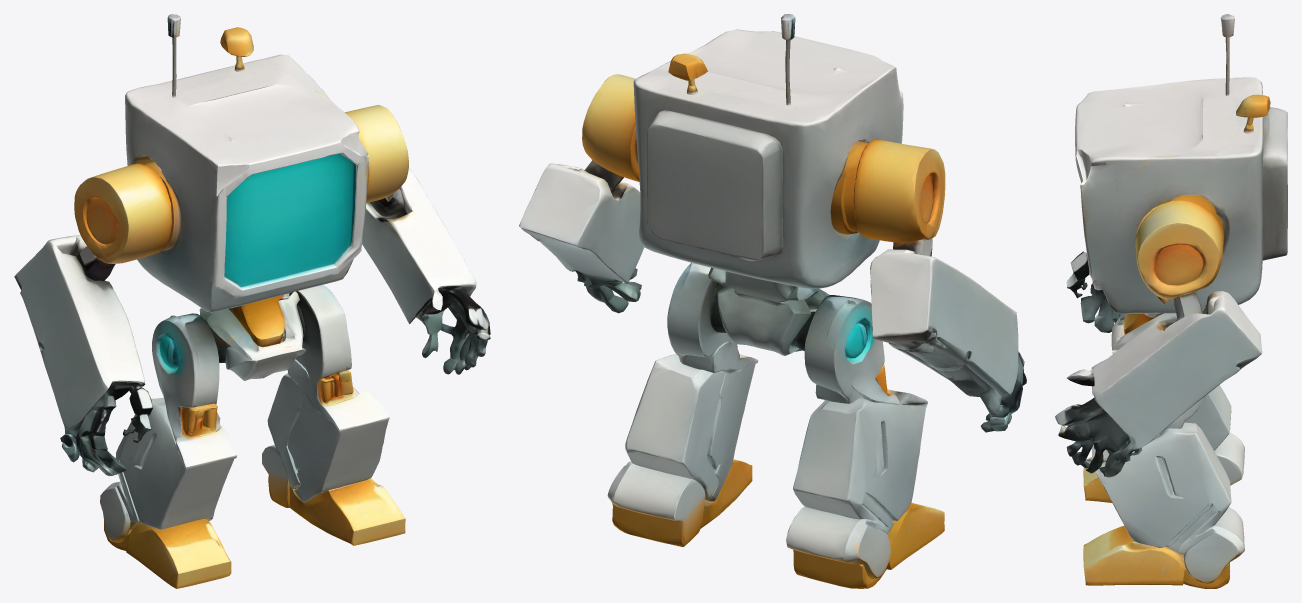
The model's file is m2PatrolBot.glb.
3 views of the same model, side by side, from view 1: azimuth 30°, elevation 25°; view 2: azimuth 150°, elevation 25°; view 3: azimuth 270°, elevation 25° (orthographic). The views are drawn at different scales.
Parts seen in each view (by area): view 1: model; view 2: model; view 3: model.
Part boxes in pixels (bbox=[...]): model: bbox=[14, 14, 490, 588]; model: bbox=[519, 14, 1026, 588]; model: bbox=[1055, 14, 1287, 588].
Size of the model in its own units: 1.57 by 1.9 by 0.8016.
1 material, 1 textured.
